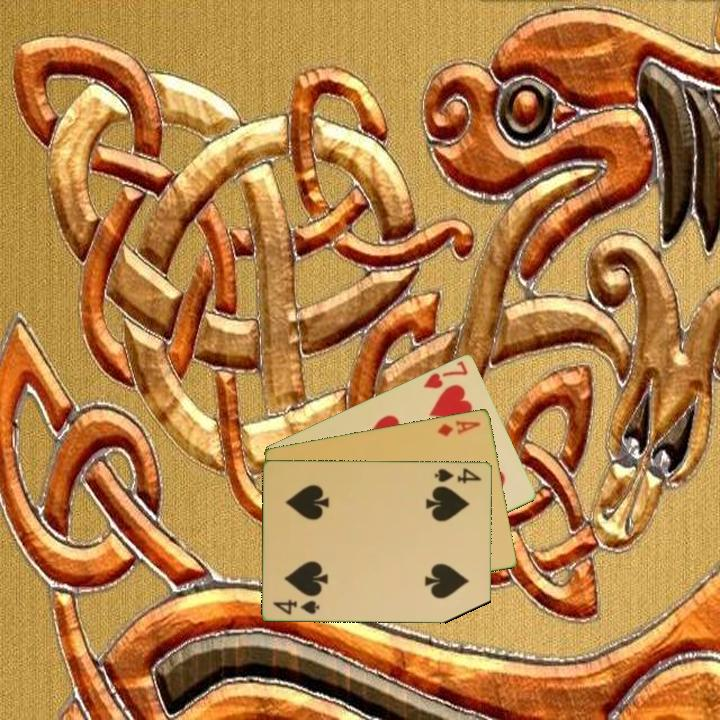4s: (431, 464, 485, 486), (269, 596, 323, 617)
7h: (420, 357, 471, 391)
Ad: (434, 416, 484, 439)
